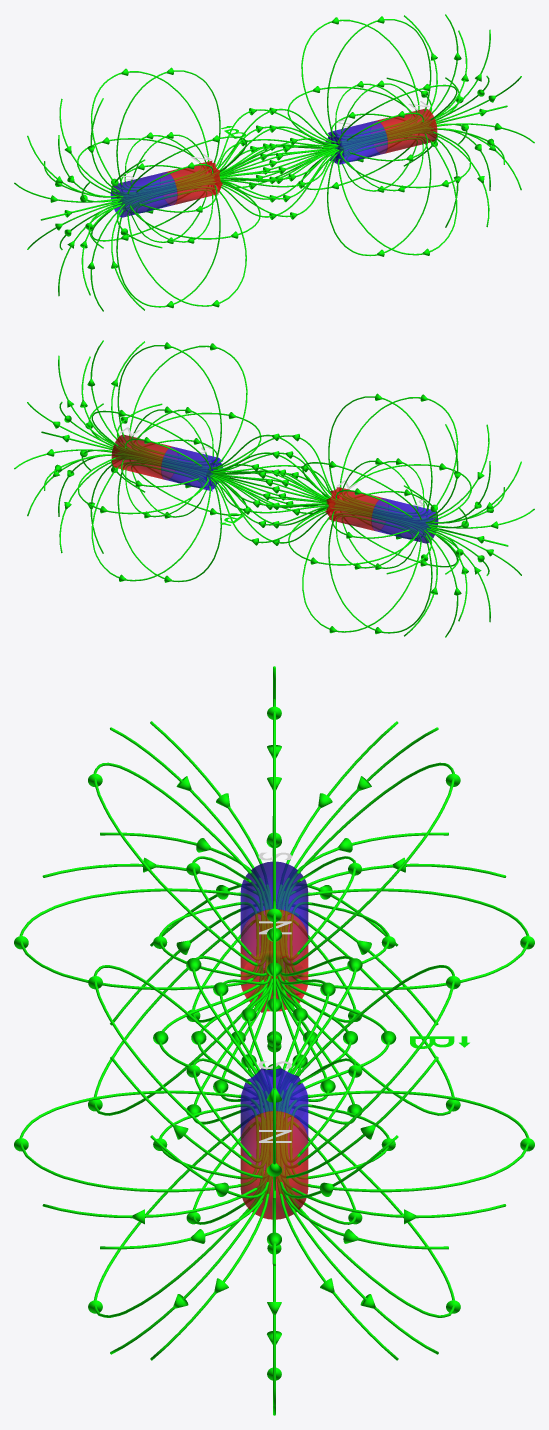
File: Iman partido.dae
3 views of the same model, one above another, from view 1: azimuth 30°, elevation 25°; view 2: azimuth 150°, elevation 25°; view 3: azimuth 270°, elevation 25° (orthographic). The views are drawn at different scales.
Visible parts, largest first — view 1: Texto-letra-polo-sur.001; view 2: Texto-letra-polo-sur.001; view 3: Texto-letra-polo-sur.001.
Boxes of the visible parts, x1,y1,x2,y2 form: Texto-letra-polo-sur.001: (14,14,534,311); Texto-letra-polo-sur.001: (14,340,534,637); Texto-letra-polo-sur.001: (14,666,534,1415).
Size of the model in its own units: 22.14 by 10.9 by 10.89.
